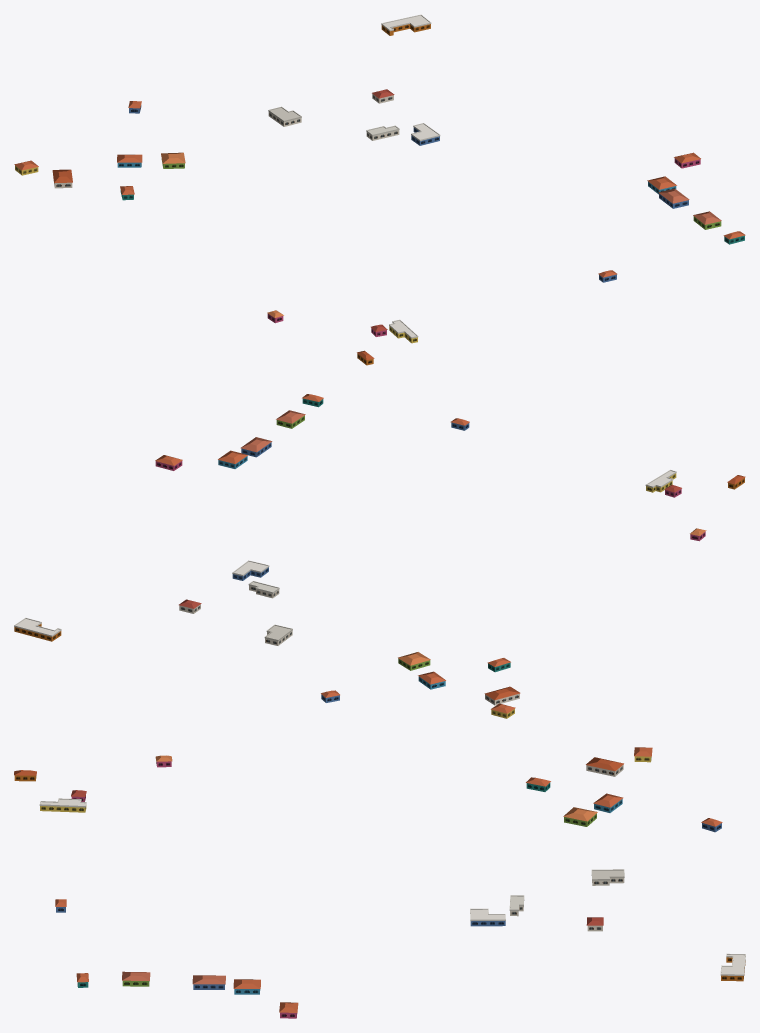
File: msb_noord_m19_m11.glb
3 views of the same model, one above another, from view 1: azimuth 30°, elevation 25°; view 2: azimuth 150°, elevation 25°; view 3: azimuth 270°, elevation 25° (orthographic). The views are drawn at different scales.
Visible parts, largest first — view 1: msb_noord_m19_m11_lod0; view 2: msb_noord_m19_m11_lod0; view 3: msb_noord_m19_m11_lod0.
Part boxes in pixels (left/top/right/bottom): msb_noord_m19_m11_lod0: left=14, top=14, right=745, bottom=365; msb_noord_m19_m11_lod0: left=14, top=394, right=745, bottom=718; msb_noord_m19_m11_lod0: left=14, top=747, right=745, bottom=1018.
Size of what is drawn, in the model's own units: 342 by 14.37 by 388.
Materials: 3 (1 with a texture image).
